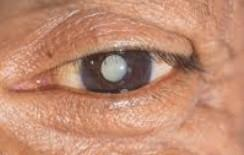eye: (81, 48, 155, 93)
